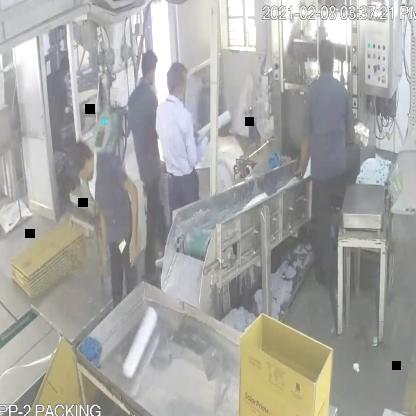no_glove: (120, 160, 143, 263), (90, 193, 113, 287)
